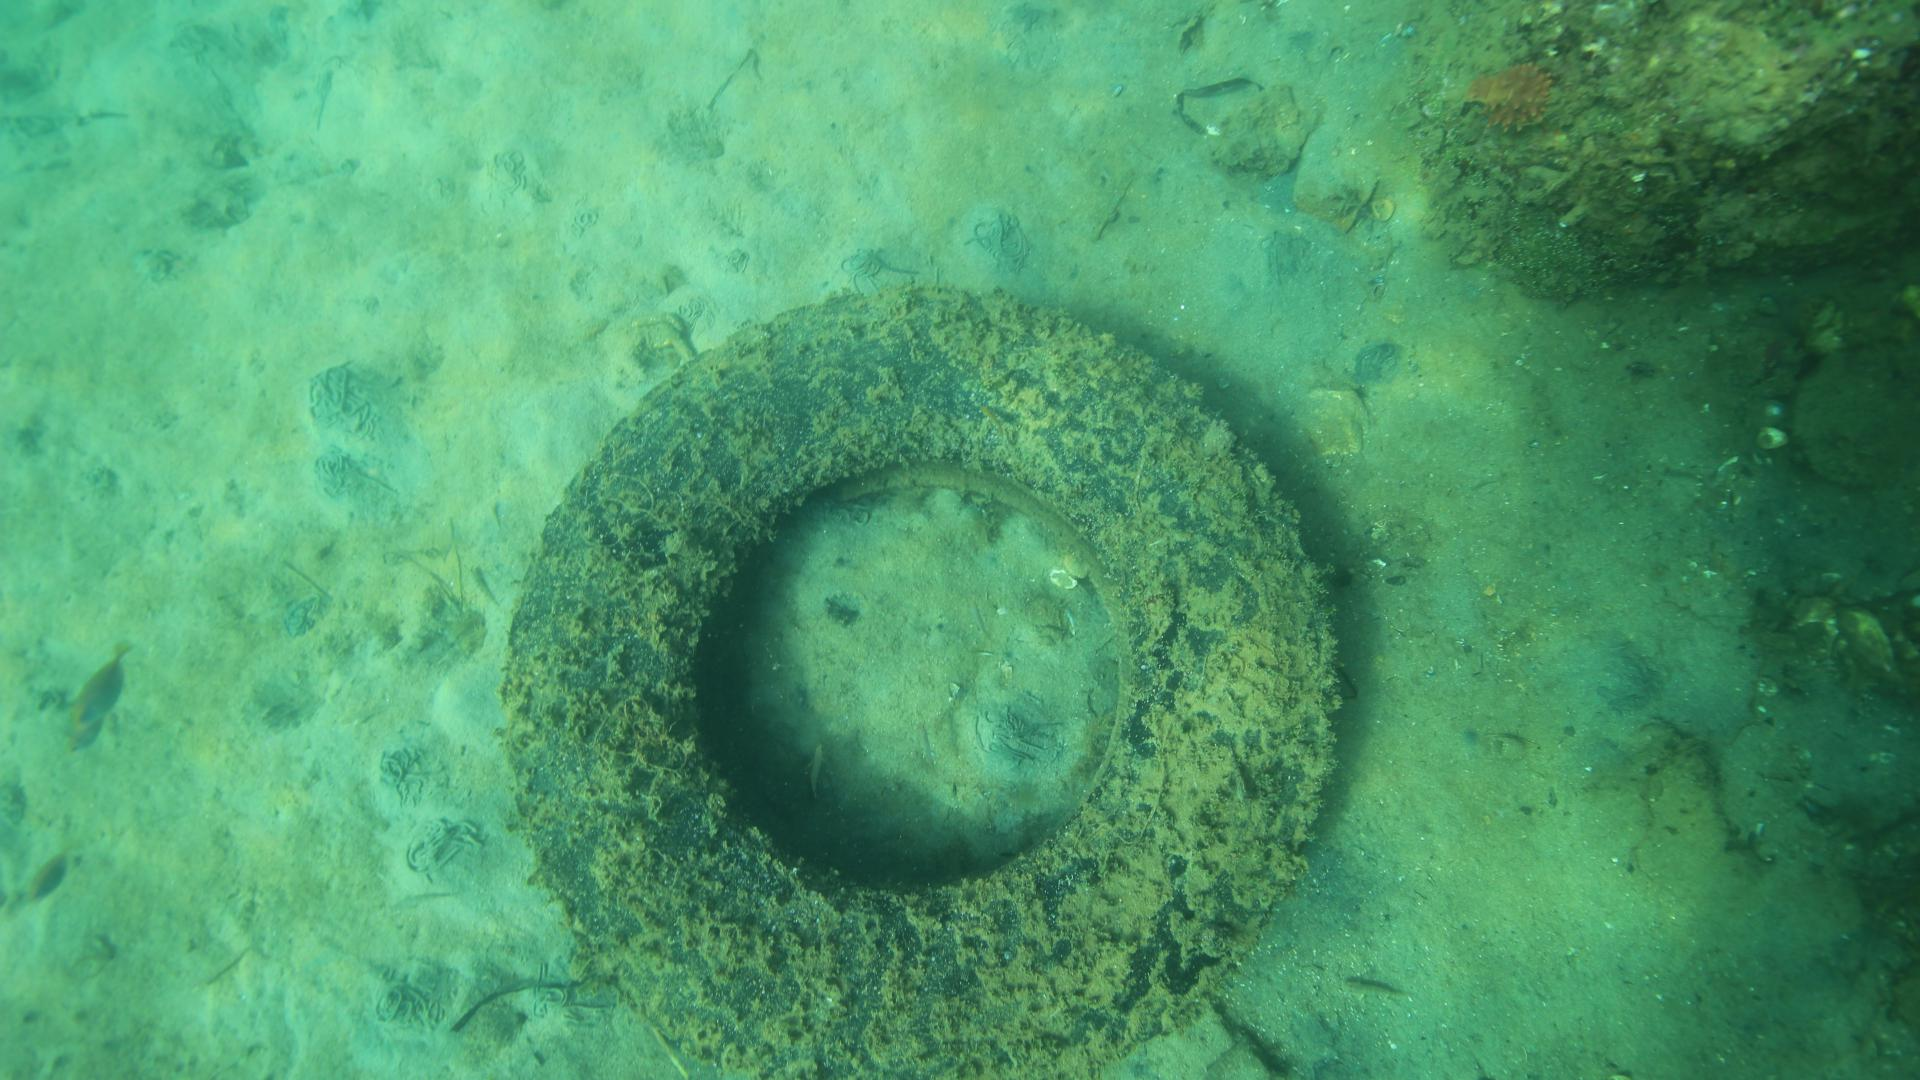tire: (497, 274, 1344, 1073)
